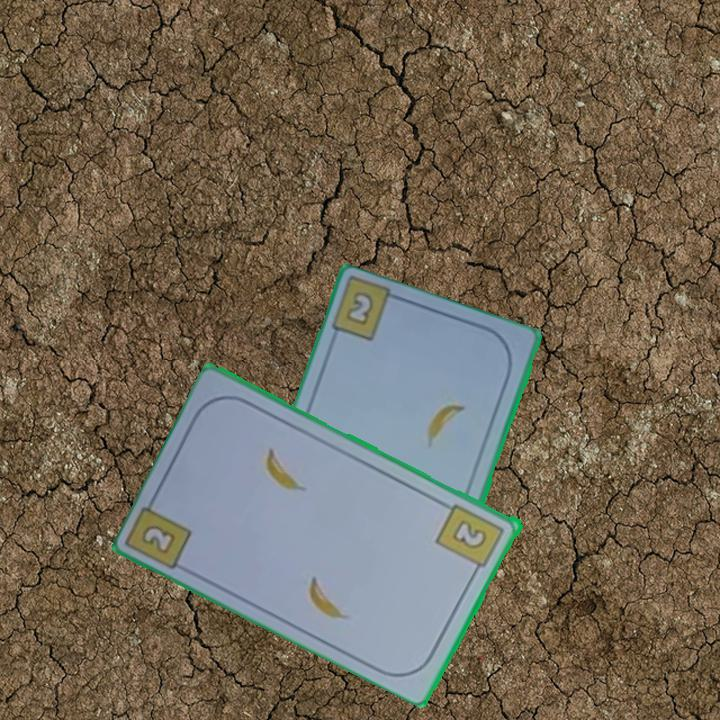2b: (433, 500, 508, 578), (342, 288, 377, 329), (141, 524, 176, 554)
